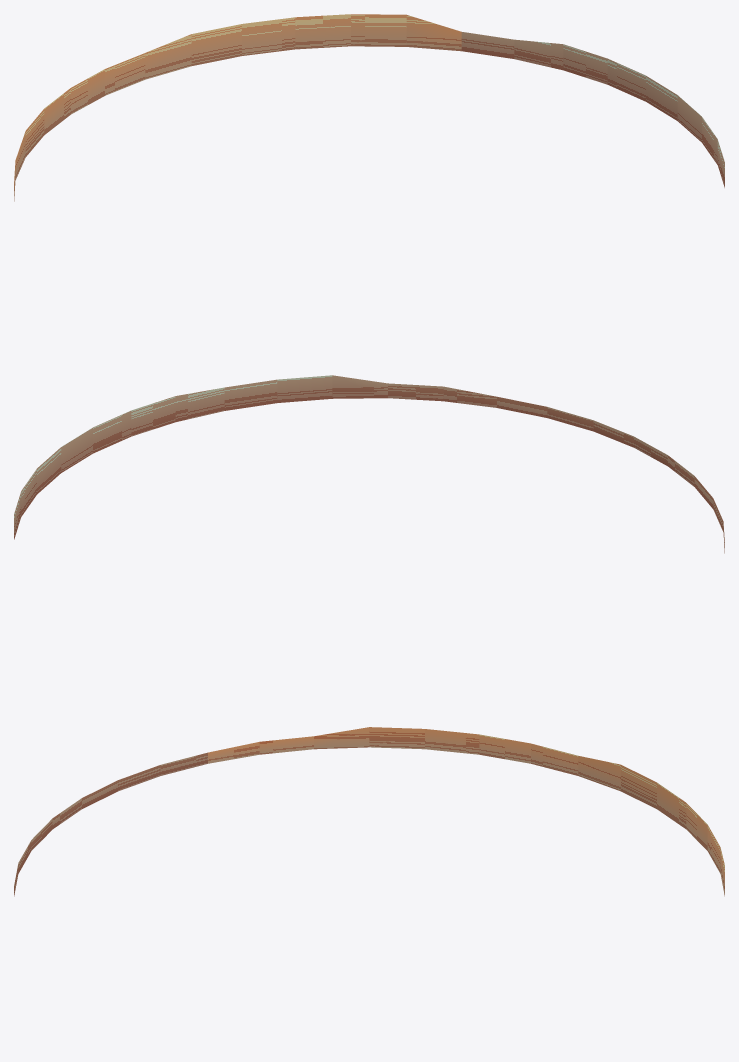
The model's file is wsky.mesas.glb.
3 views of the same model, one above another, from view 1: azimuth 30°, elevation 25°; view 2: azimuth 150°, elevation 25°; view 3: azimuth 270°, elevation 25° (orthographic).
Parts seen in each view (by area): view 1: kit_shell_mesas; view 2: kit_shell_mesas; view 3: kit_shell_mesas.
Part boxes in pixels (x1=…): kit_shell_mesas: x1=14, y1=14, x2=724, y2=201; kit_shell_mesas: x1=14, y1=375, x2=724, y2=553; kit_shell_mesas: x1=14, y1=727, x2=724, y2=896.
Bounding box in the file's own units: 320 × 15.96 × 320.
Materials: 1 (1 with a texture image).
